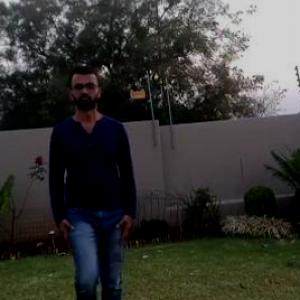follow: (55, 76, 134, 299)
